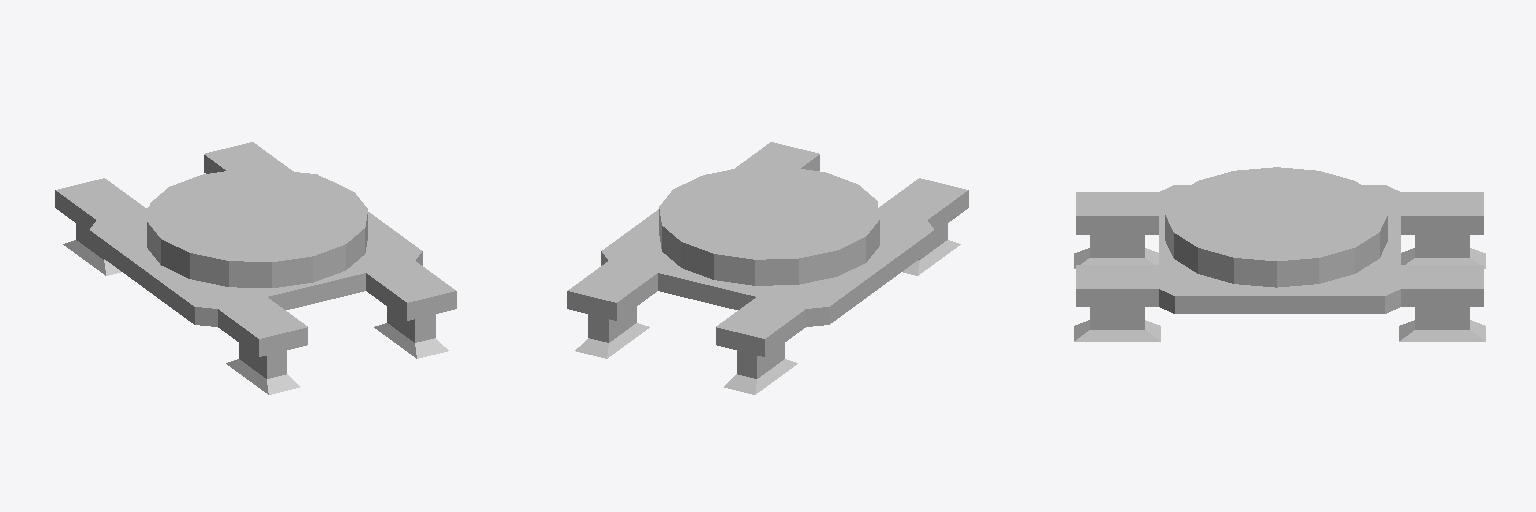
The model's file is crane_a.obj.
3 renders of one model, left to right at view 1: azimuth 30°, elevation 25°; view 2: azimuth 150°, elevation 25°; view 3: azimuth 270°, elevation 25°, orthographic.
Visible parts, largest first — view 1: g0_sep16_acmat_0_sep1318_default_sep249; view 2: g0_sep16_acmat_0_sep1318_default_sep249; view 3: g0_sep16_acmat_0_sep1318_default_sep249.
Part boxes in pixels (x1,y1,x2,y2): g0_sep16_acmat_0_sep1318_default_sep249: (55,142,456,394); g0_sep16_acmat_0_sep1318_default_sep249: (567,142,968,394); g0_sep16_acmat_0_sep1318_default_sep249: (1074,167,1485,341).
Bounding box in the file's own units: 128 × 44.77 × 201.